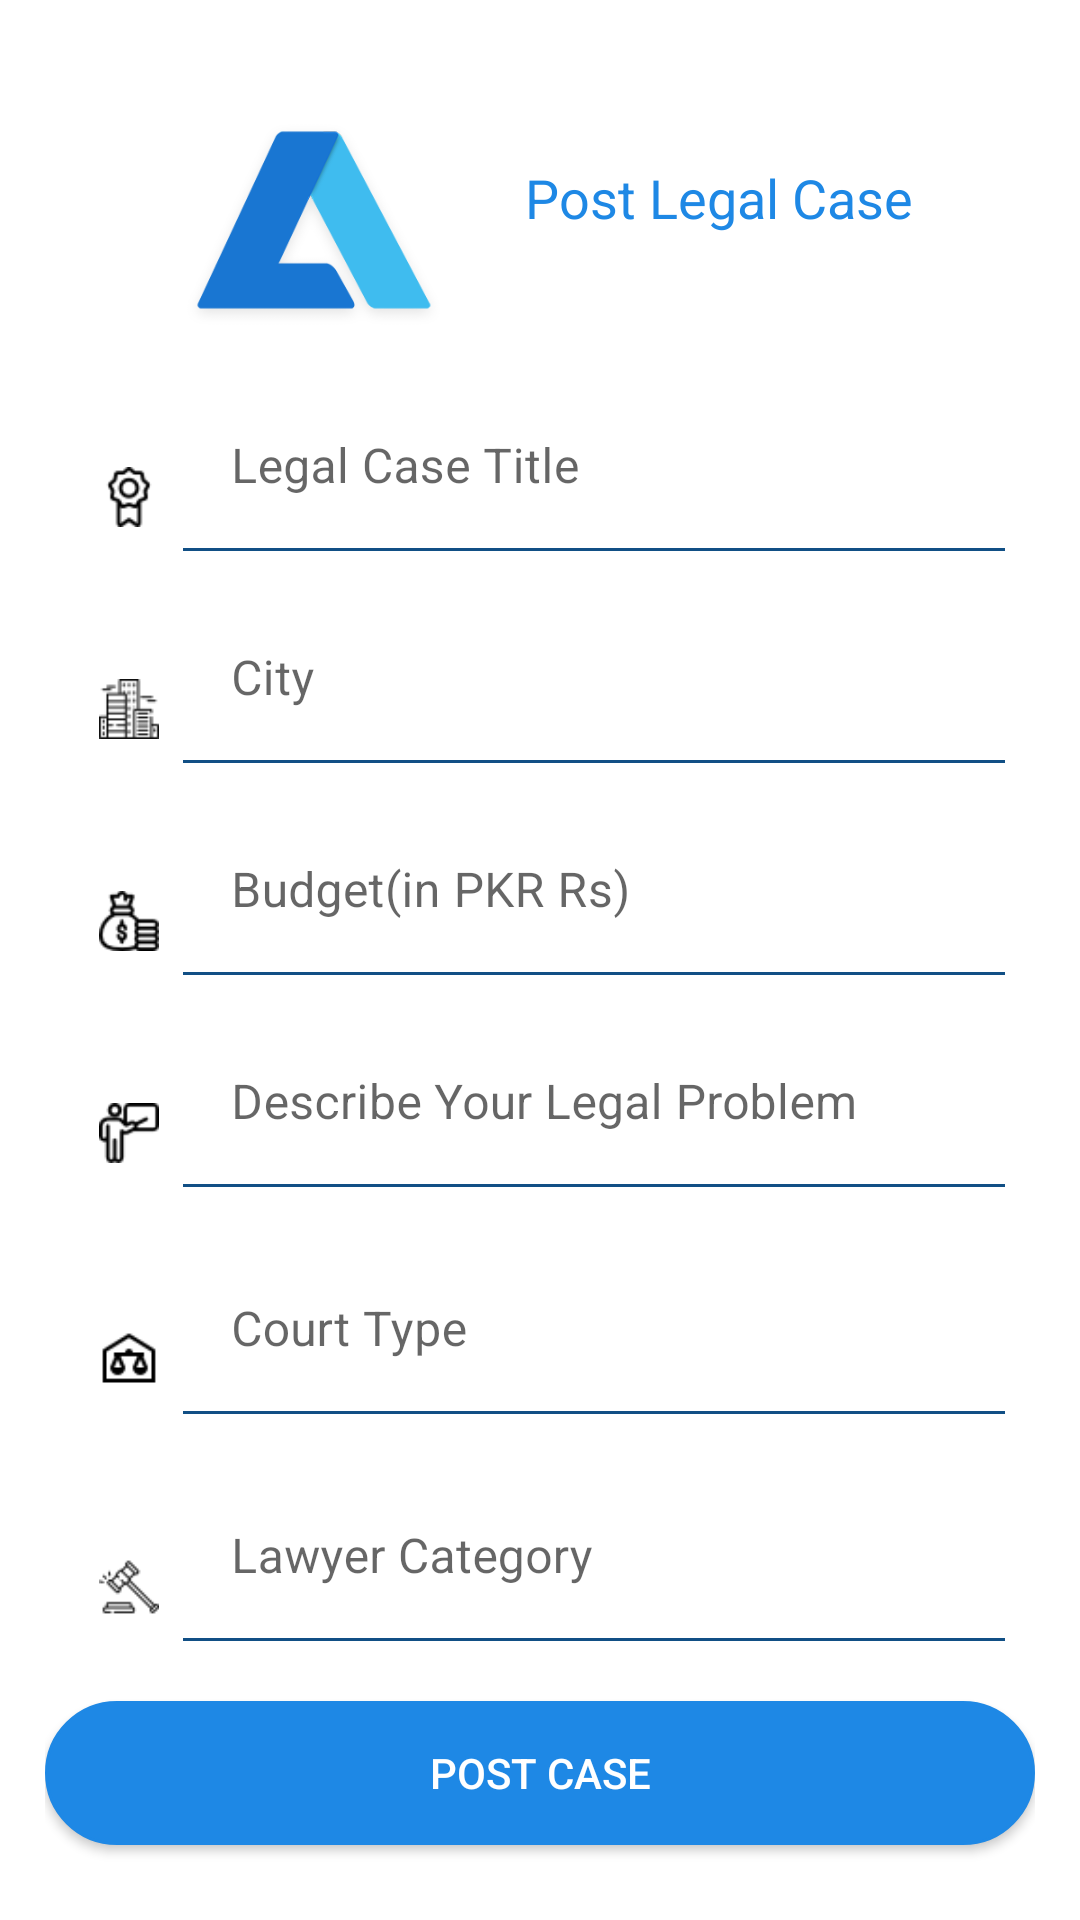

Icon click points for this 1080px x 1920px phone screenshot, format (x,y):
courthouse: (129,1358)
